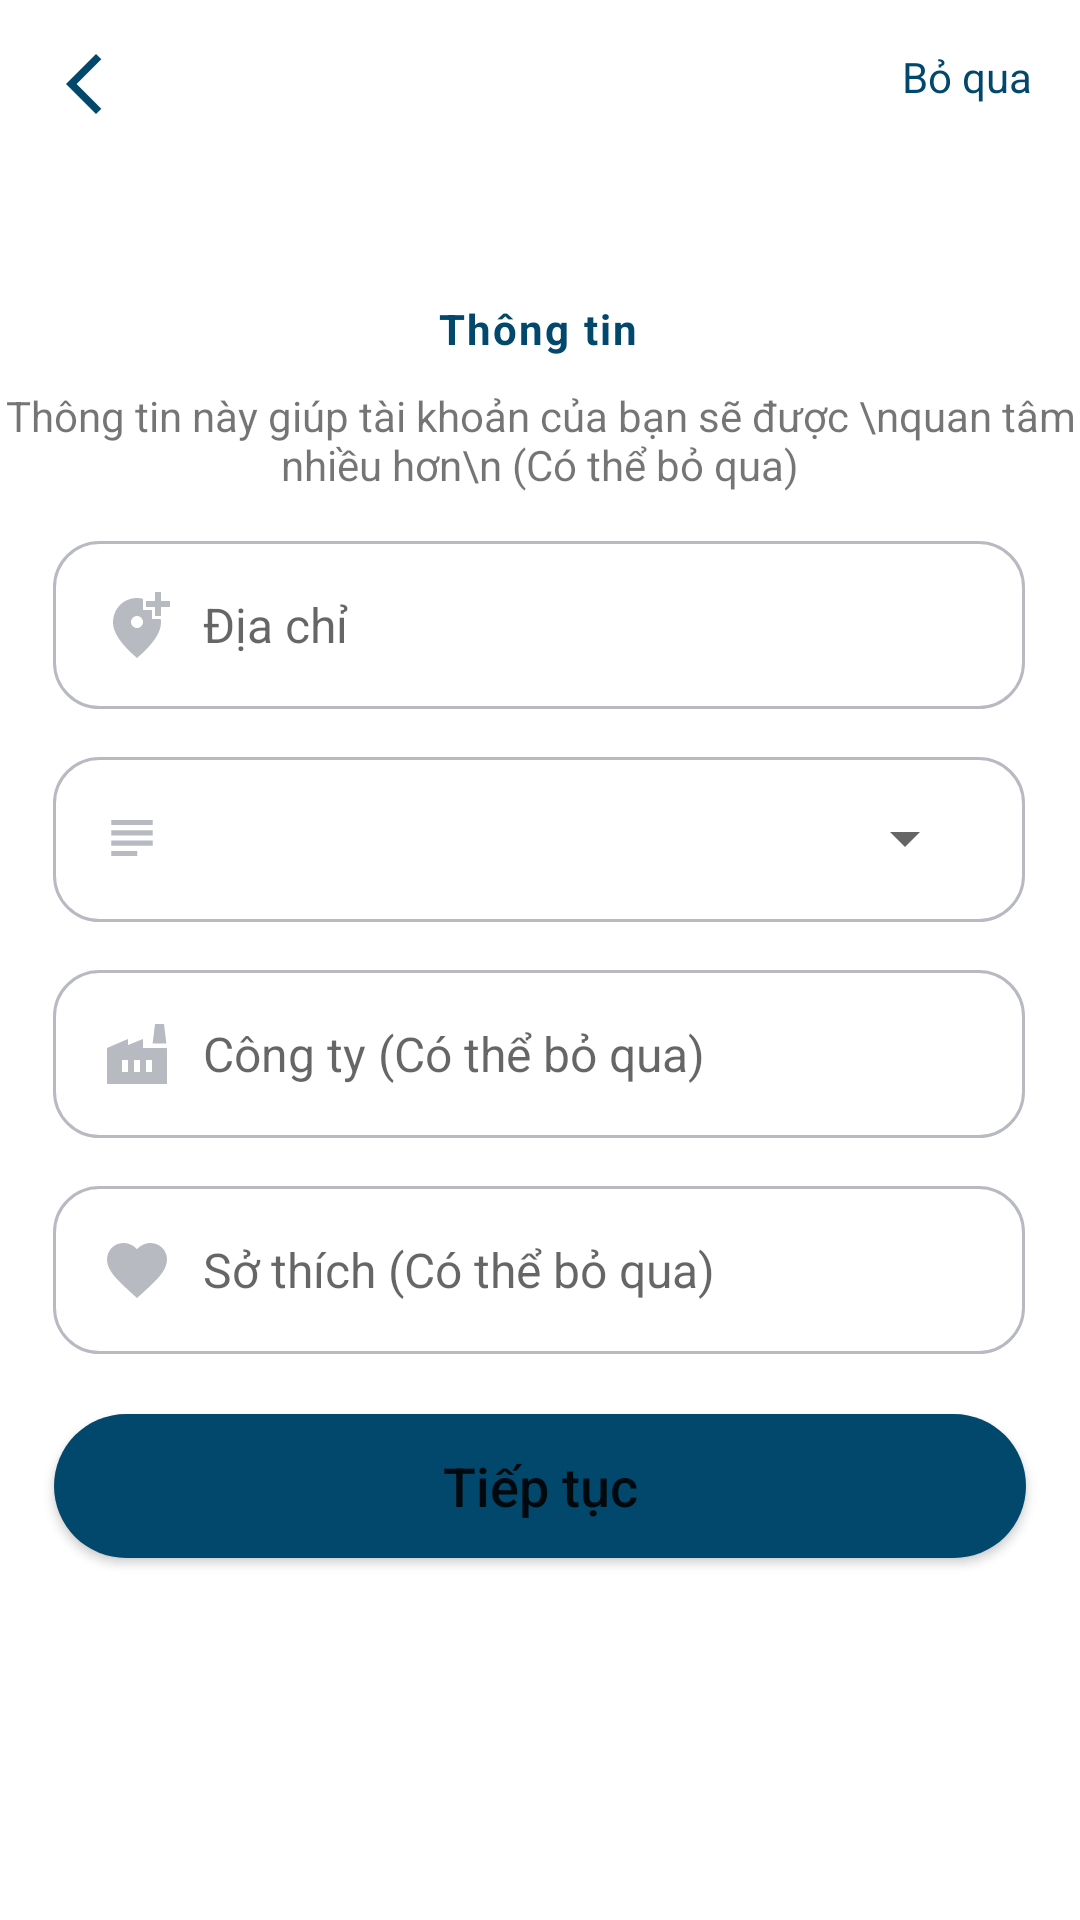

Locate icon controls on the screen. Image size 1080x1920, boxes as bbox=(x1, y1, x2, y2).
back: bbox=(66, 54, 101, 114)
